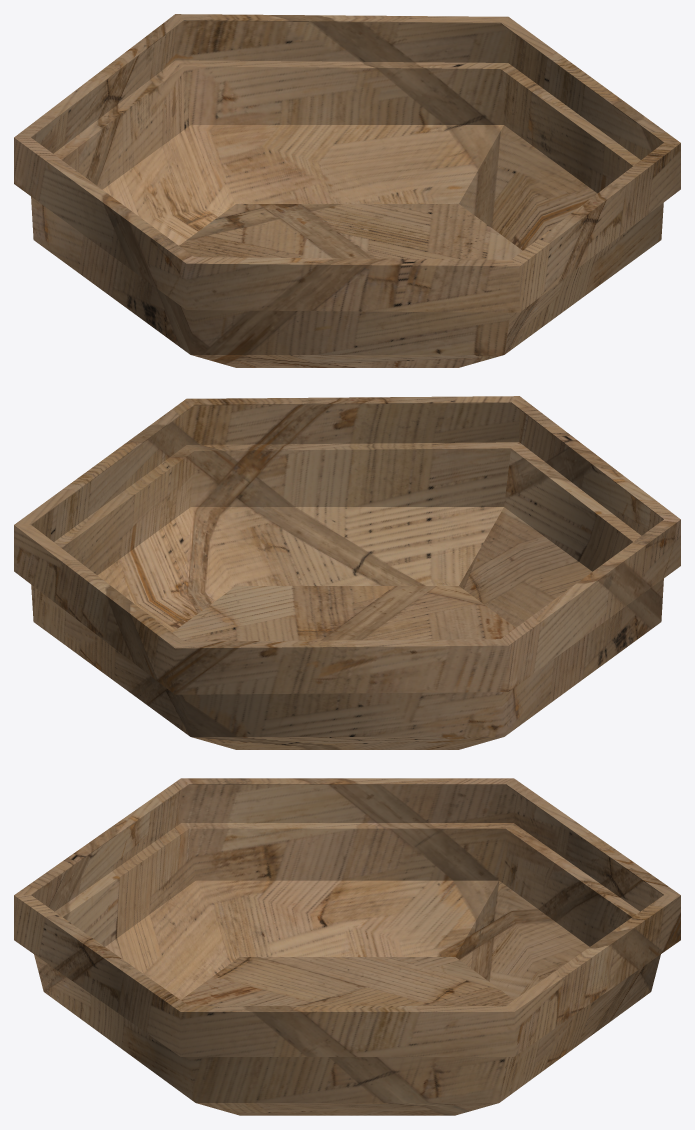
The model's file is SM_Basket.fbx.
3 views of the same model, one above another, from view 1: azimuth 30°, elevation 25°; view 2: azimuth 150°, elevation 25°; view 3: azimuth 270°, elevation 25° (orthographic). The views are drawn at different scales.
Parts seen in each view (by area): view 1: Basket; view 2: Basket; view 3: Basket.
Part boxes in pixels (left/top/right/bottom): Basket: left=14, top=14, right=680, bottom=367; Basket: left=14, top=396, right=680, bottom=749; Basket: left=14, top=778, right=680, bottom=1115.
Size of the model in its own units: 42.19 by 11.93 by 50.9.
Materials: 1 (1 with a texture image).
